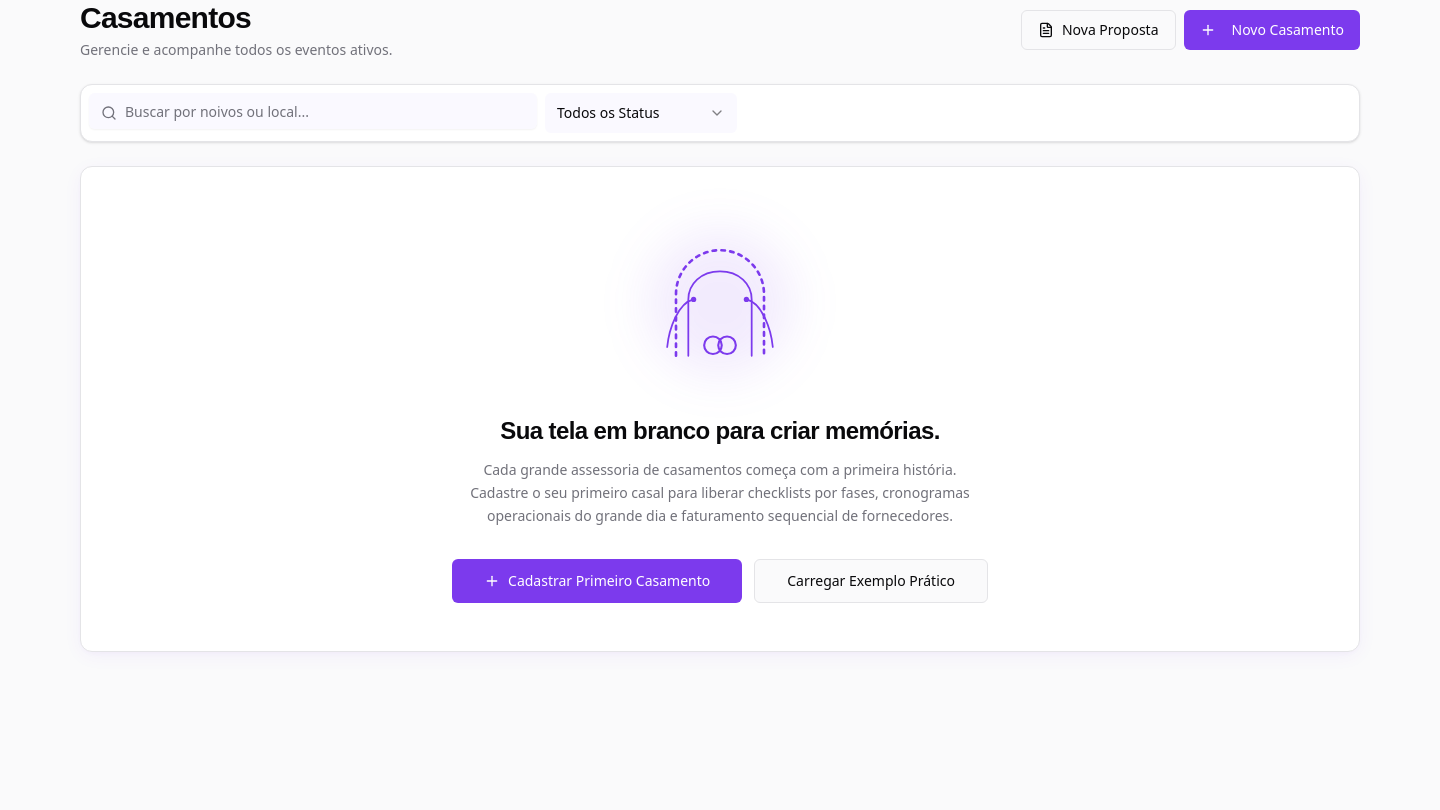
Test: WeddingsListPage › opens the create dialog from the empty state
Click the button "Cadastrar Primeiro Casamento": [597, 581] box x1=452 y1=559 x2=742 y2=603
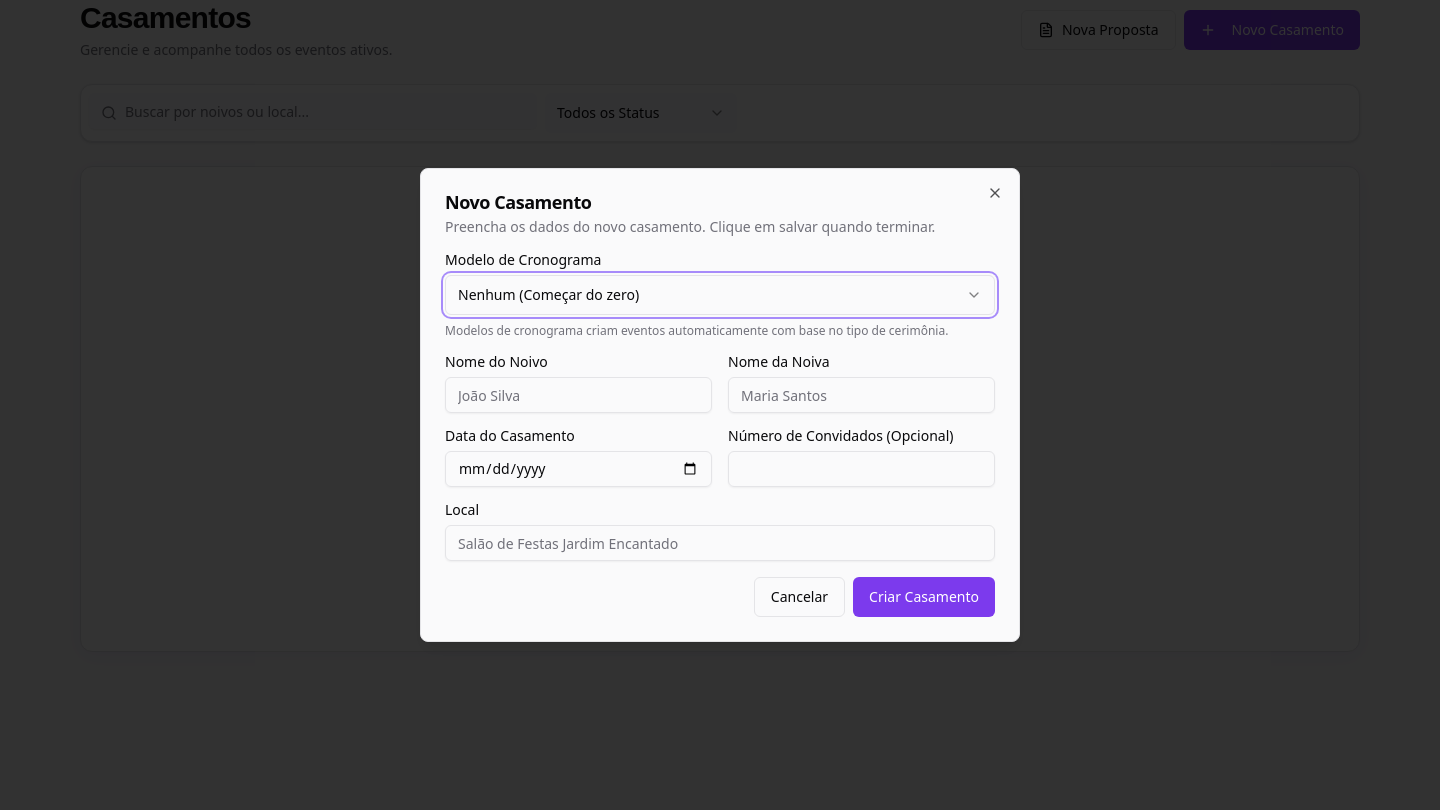
Expected: the heading "Novo Casamento" is shown, x1=445 y1=190 x2=591 y2=214
